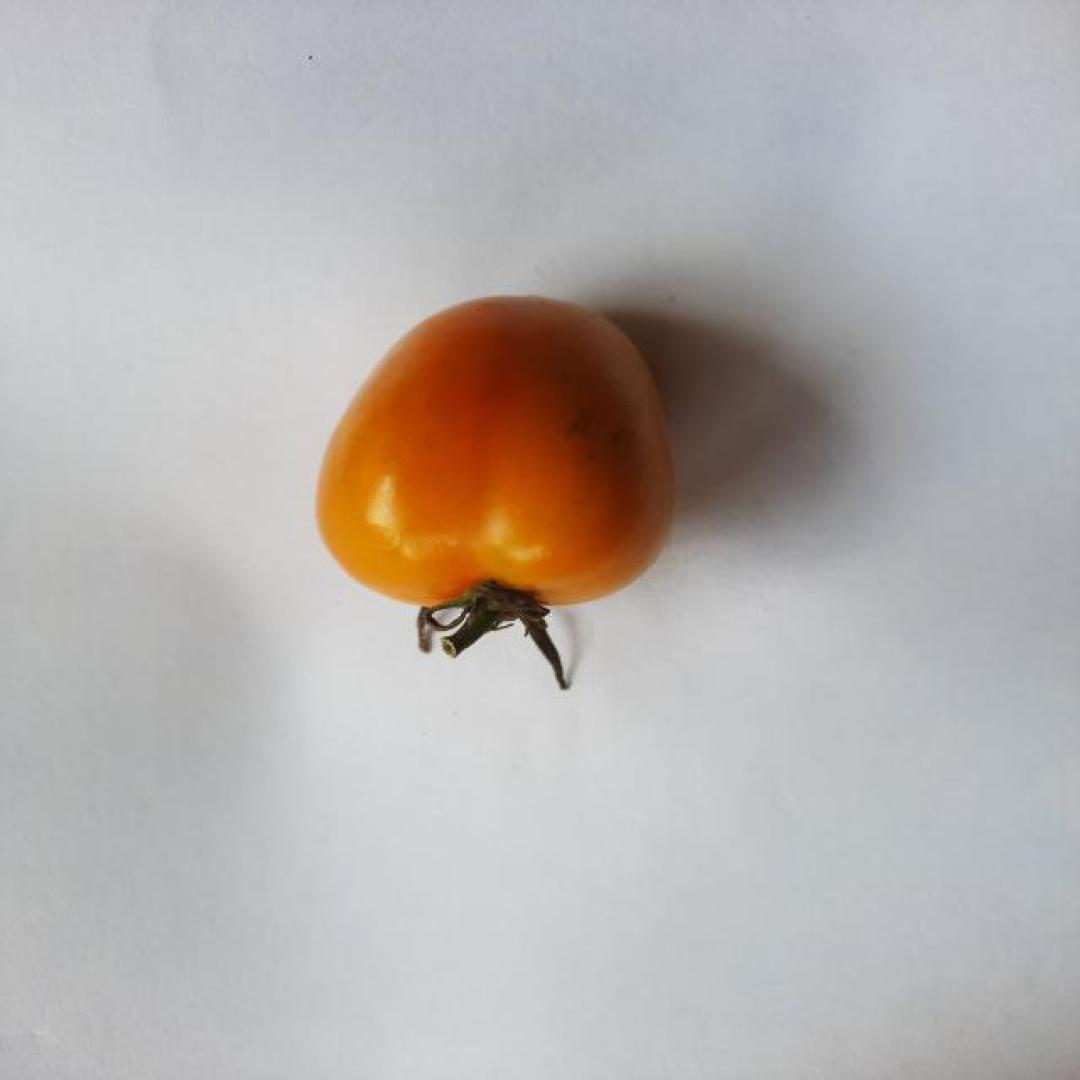setengah_matang: (312, 295, 680, 611)
